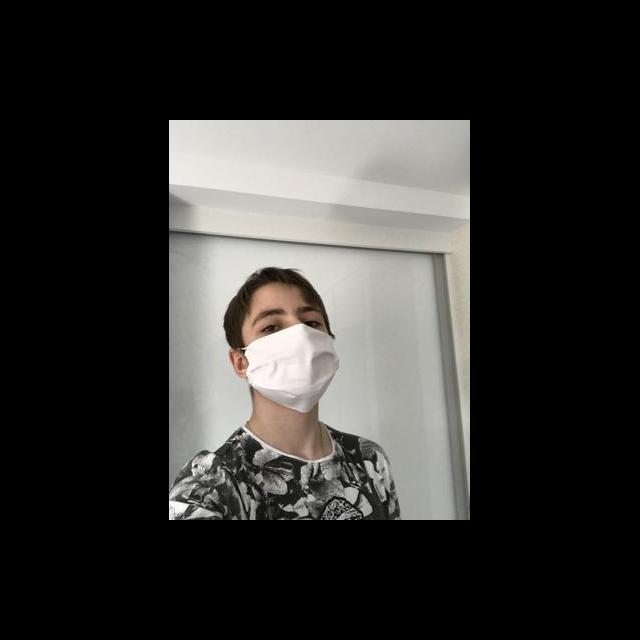Mask: (242, 324, 339, 413)
NO-Hardhat: (231, 264, 321, 301)
NO-Safety Vest: (208, 434, 381, 520)
Person: (170, 260, 403, 520)
